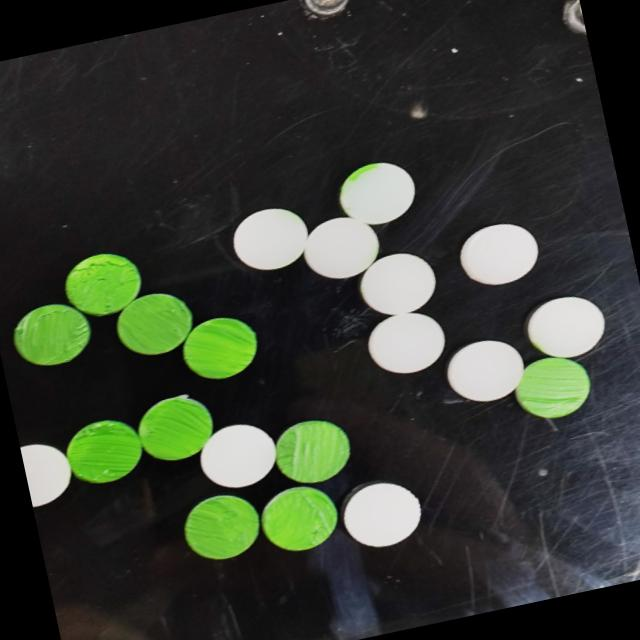disco blanco: (445, 212, 552, 296), (293, 206, 390, 287), (434, 332, 534, 410), (519, 284, 612, 366), (328, 151, 422, 232), (336, 472, 428, 554), (360, 304, 454, 382), (224, 199, 315, 277), (353, 244, 444, 322), (193, 417, 284, 494), (20, 436, 80, 510)
disco verde: (174, 481, 270, 570), (1, 292, 99, 376), (55, 410, 151, 494), (54, 242, 152, 324), (252, 477, 346, 560), (106, 282, 201, 363), (266, 410, 361, 490), (130, 386, 222, 467), (509, 344, 599, 424), (176, 306, 266, 386)
